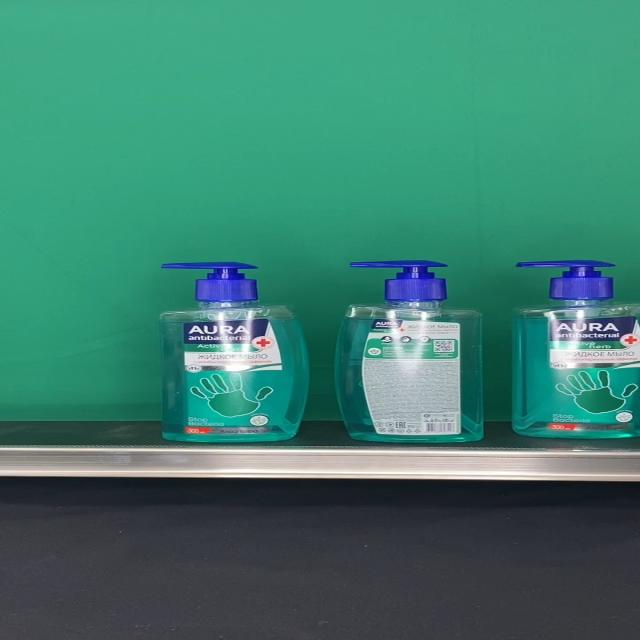Bottle: (155, 261, 309, 442), (335, 259, 484, 442), (514, 259, 640, 438)
Cap: (349, 259, 448, 301), (515, 259, 615, 299), (159, 261, 257, 301)
